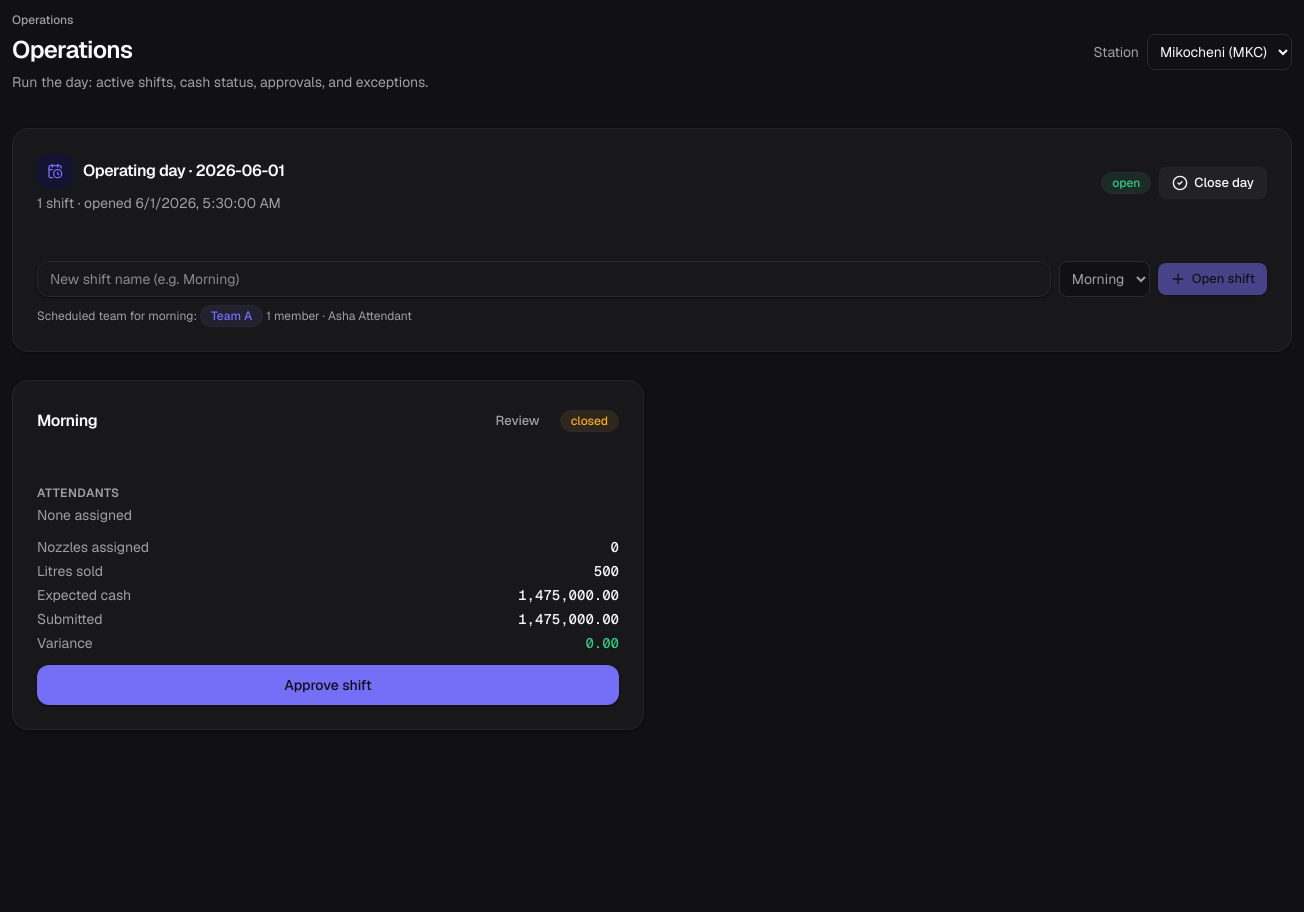
Test: OperationsPage — Phase 5 supervisor gates › maps the approve 409 readings_unverified gate onto a clear message
This screenshot has width=1304, height=912.
Click the button "Approve shift".
click(328, 685)  # box [37, 665, 619, 705]
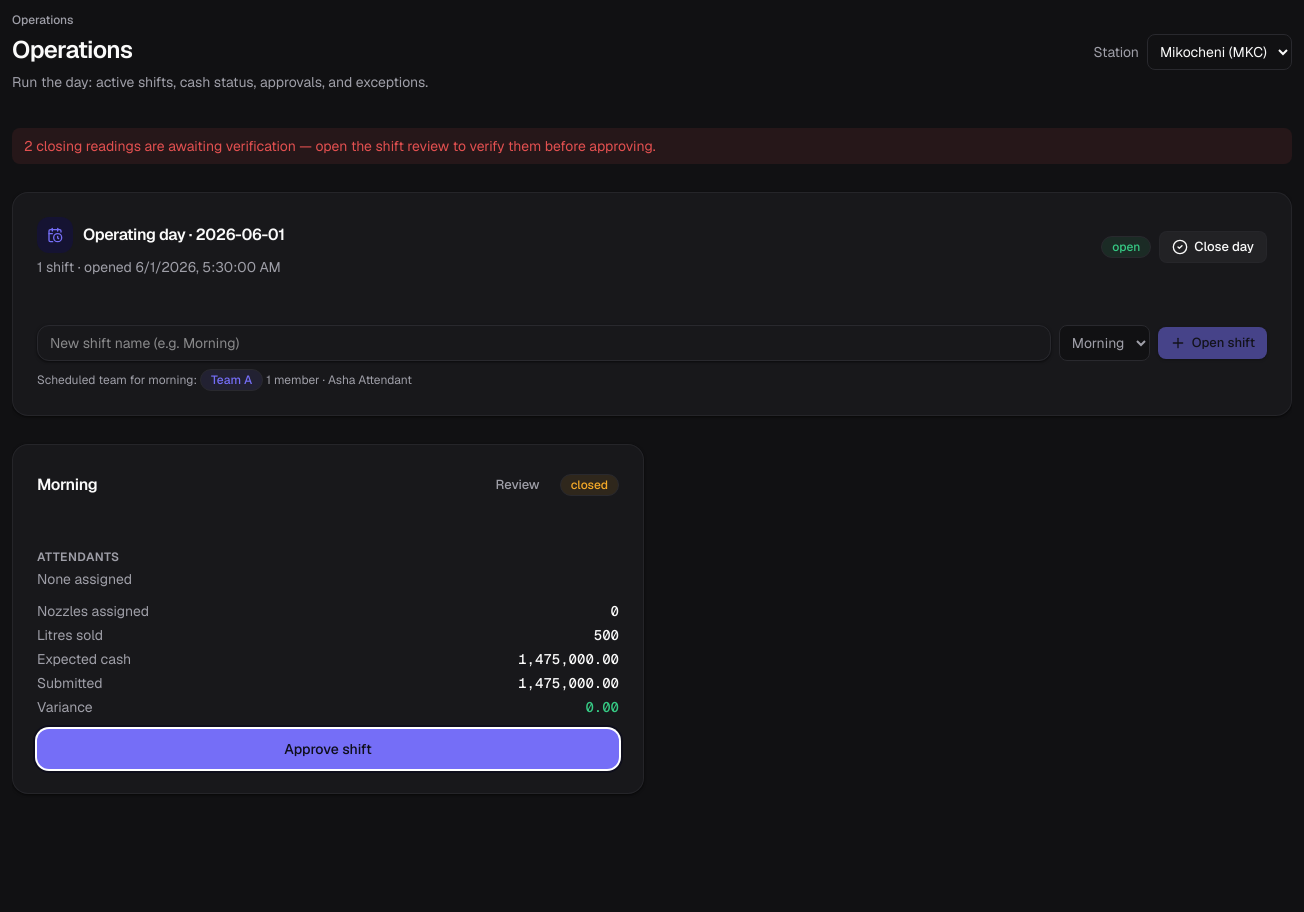
Expected: the text "2 closing readings are awaiting verification — open the shift review" is shown, [24, 137, 656, 155]
